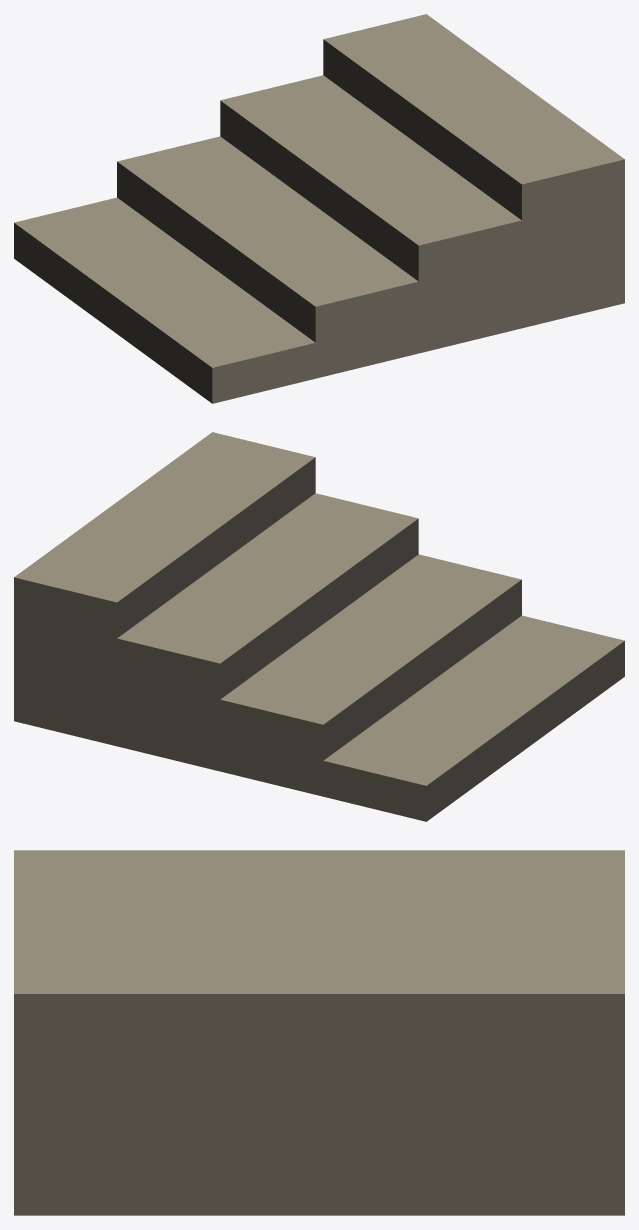
The model's file is TW_STEPS_WIDE4_A_LOD0.glb.
3 views of the same model, one above another, from view 1: azimuth 30°, elevation 25°; view 2: azimuth 150°, elevation 25°; view 3: azimuth 270°, elevation 25° (orthographic). The views are drawn at different scales.
Parts seen in each view (by area): view 1: TW_STEPS_WIDE4_A_LOD0; view 2: TW_STEPS_WIDE4_A_LOD0; view 3: TW_STEPS_WIDE4_A_LOD0.
Part boxes in pixels (<box>): TW_STEPS_WIDE4_A_LOD0: <box>14,14,624,403</box>; TW_STEPS_WIDE4_A_LOD0: <box>14,432,624,821</box>; TW_STEPS_WIDE4_A_LOD0: <box>14,850,624,1215</box>.
Bounding box in the file's own units: 1.8 × 0.6 × 1.5.
Materials: 1 (1 with a texture image).
